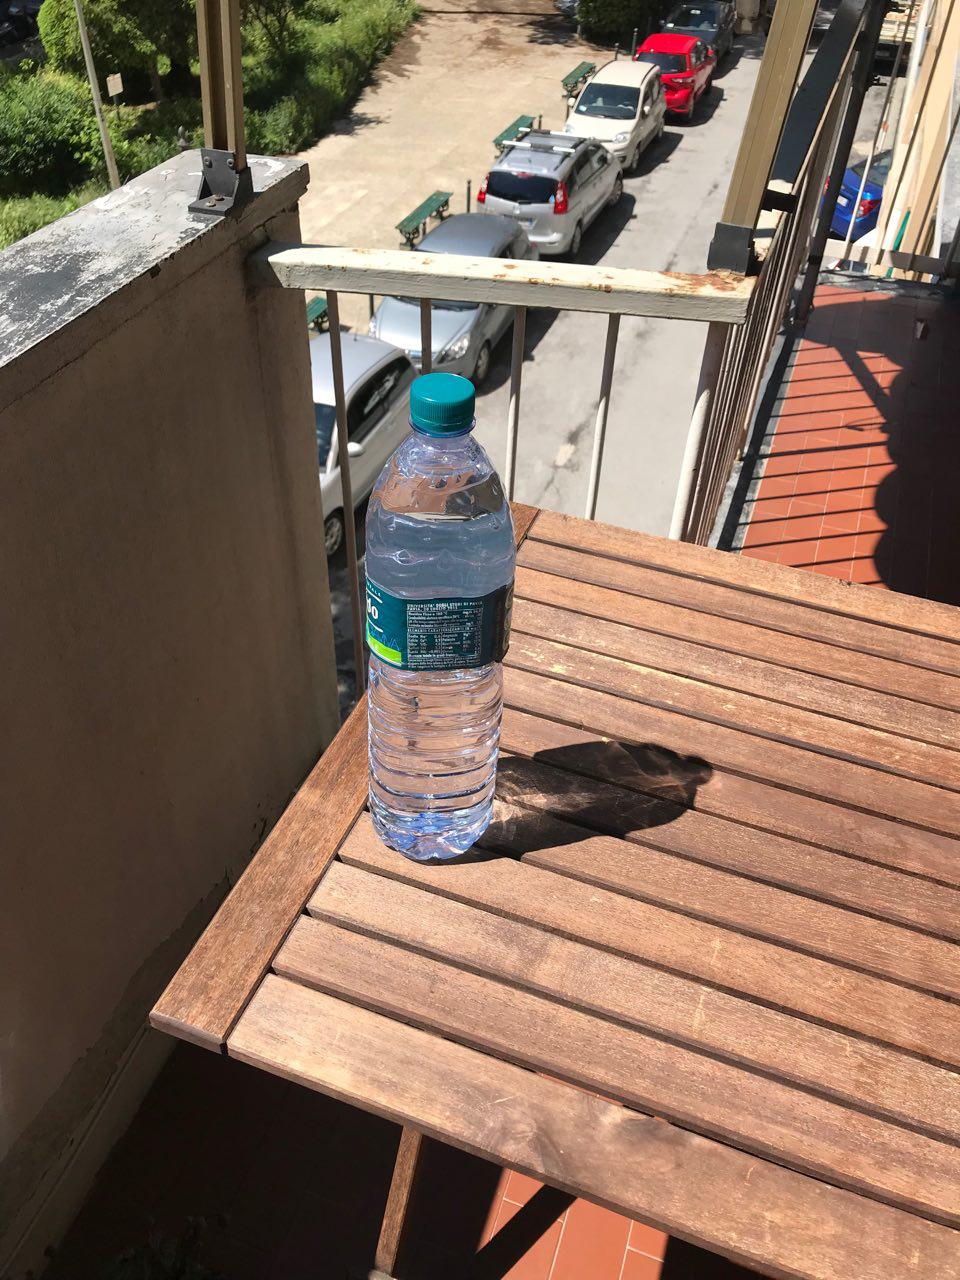san_bernardo: (363, 370, 515, 863)
